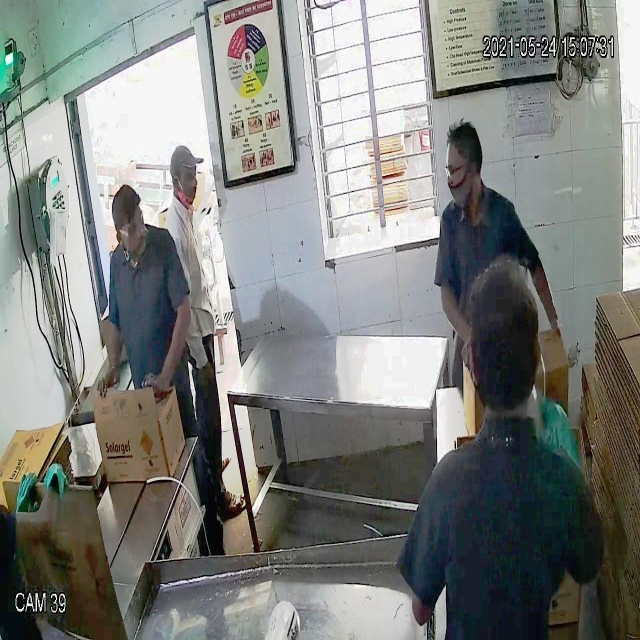Gafas: (113, 209, 149, 244), (440, 157, 480, 186)
